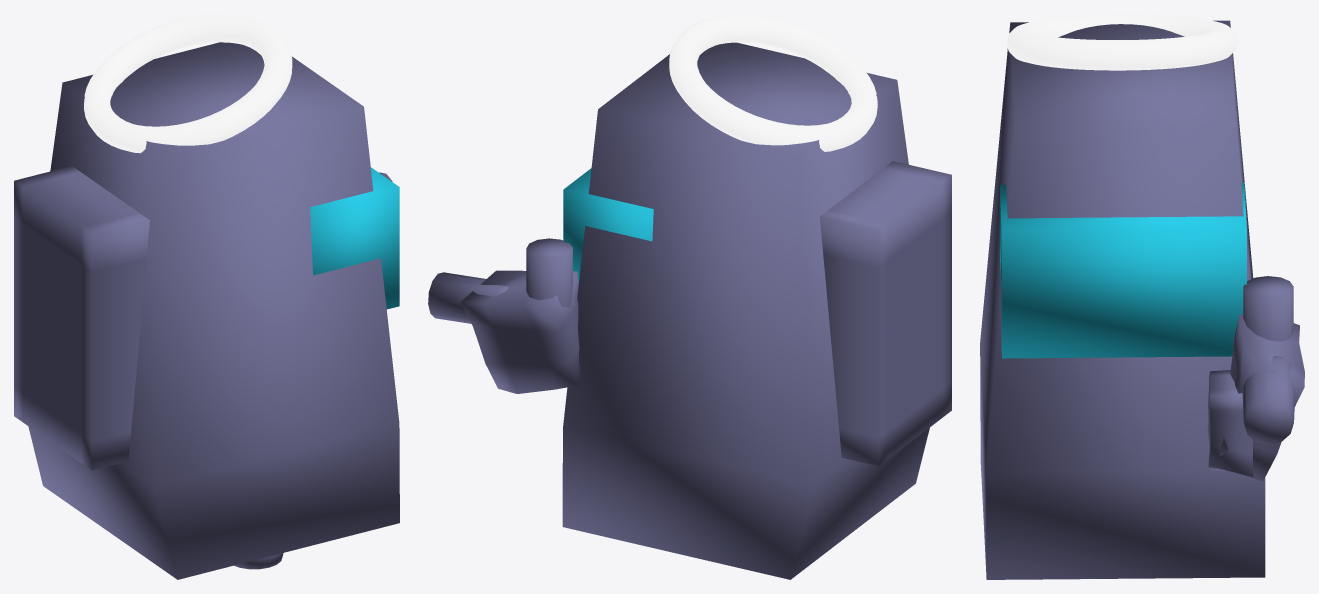
The model's file is Sus2.glb.
3 renders of one model, left to right at view 1: azimuth 30°, elevation 25°; view 2: azimuth 150°, elevation 25°; view 3: azimuth 270°, elevation 25°, orthographic. The views are drawn at different scales.
Parts seen in each view (by area): view 1: Cube, Cube.002, Torus, Cube.001; view 2: Cube, Cube.002, Cube.004, Torus, Cube.001; view 3: Cube, Cube.001, Cube.004, Torus.
Boxes of the visible parts, bbox=[...] form: Cube: bbox=[28, 42, 399, 579]; Cube.002: bbox=[14, 166, 149, 470]; Torus: bbox=[84, 14, 292, 153]; Cube.001: bbox=[310, 167, 399, 309]; Cube: bbox=[562, 42, 929, 579]; Cube.002: bbox=[820, 161, 951, 466]; Cube.004: bbox=[428, 238, 581, 393]; Torus: bbox=[669, 14, 877, 151]; Cube.001: bbox=[563, 168, 653, 282]; Cube: bbox=[980, 20, 1265, 579]; Cube.001: bbox=[1000, 182, 1246, 358]; Cube.004: bbox=[1207, 276, 1304, 481]; Torus: bbox=[1006, 14, 1237, 70].
Bounding box in the file's own units: 3.61 × 4.27 × 2.33.
